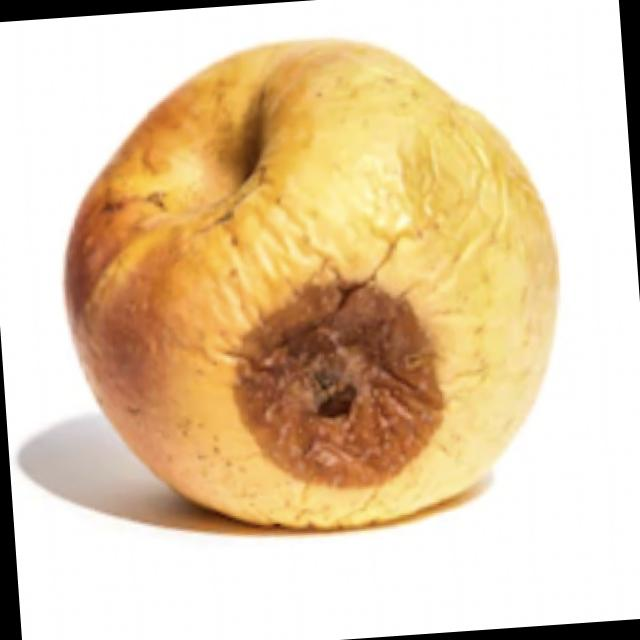rotten_apple: (50, 23, 575, 554)
